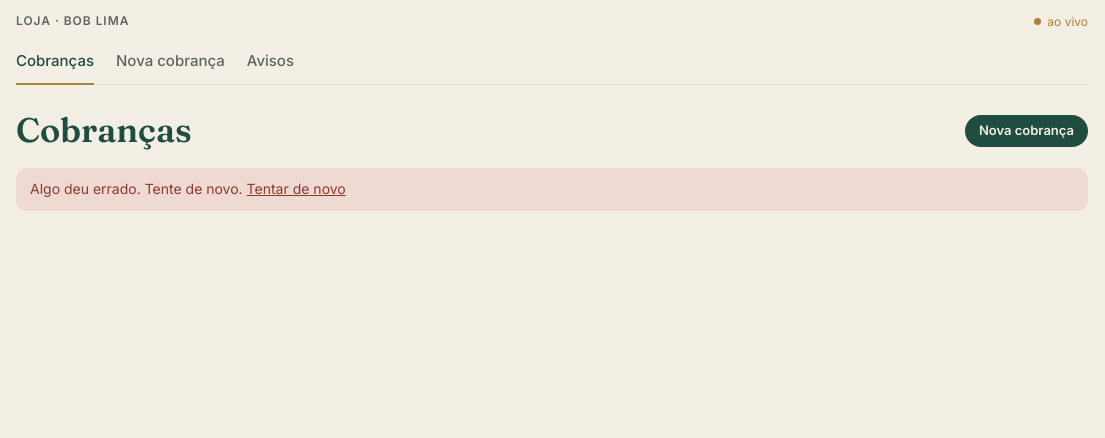
Test: Painel do lojista › marca a aba atual e mostra o erro com como tentar de novo
expect the message shows "Algo deu errado": met, box [30,180,243,197]
Click the button "Tentar de novo" at (296, 190), box [247,178,346,201]
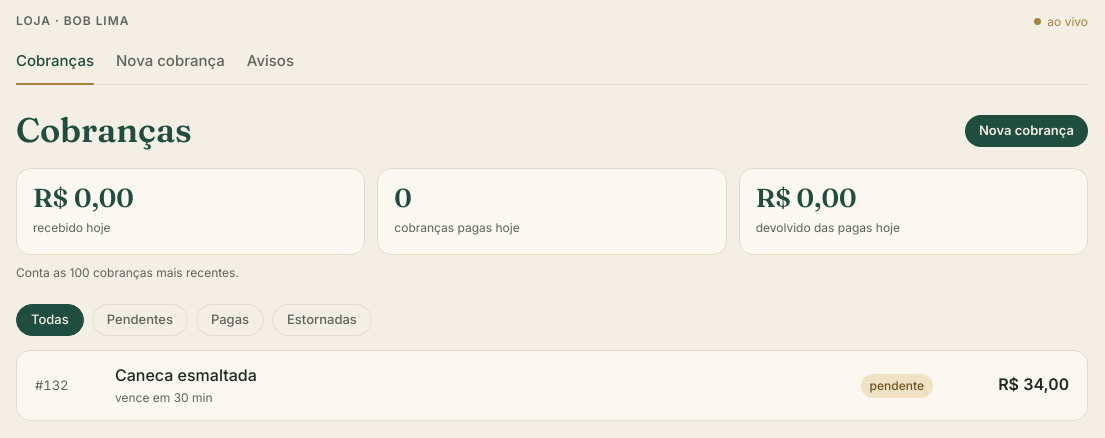
expect the message "Algo deu errado. Tente de novo. Tentar de novo" is gone: met
expect the text "Caneca esmaltada" is shown: met, box [115,365,257,385]
